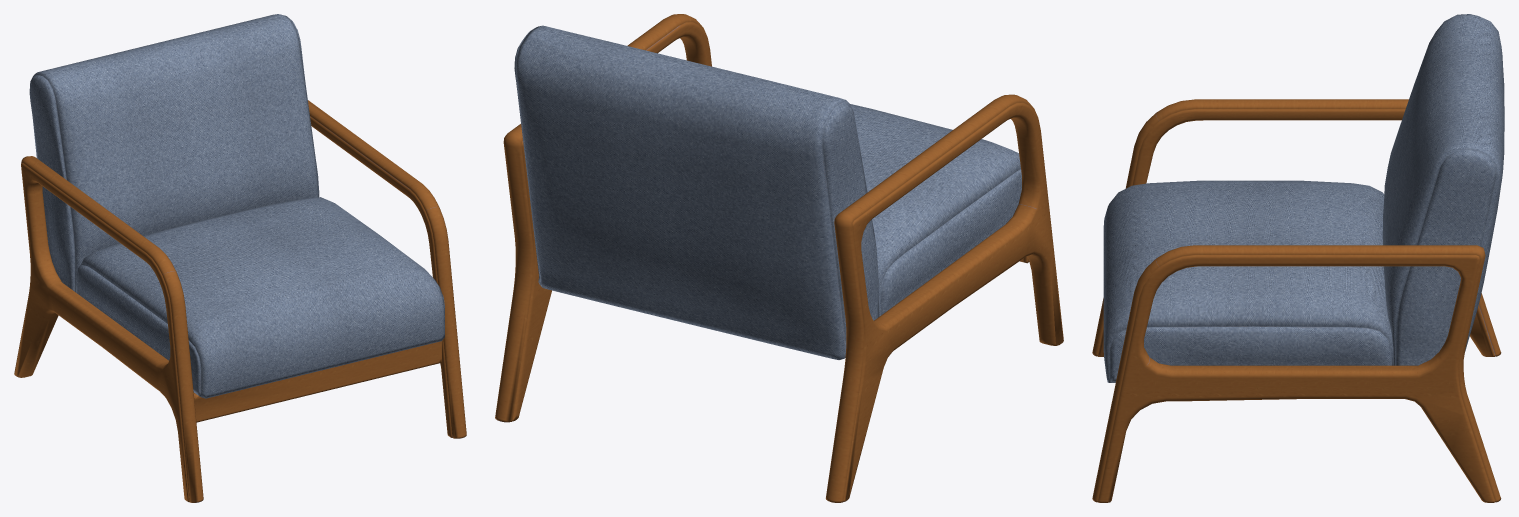
Rendered from arm_chair.glb.
3 renders of one model, left to right at view 1: azimuth 30°, elevation 25°; view 2: azimuth 150°, elevation 25°; view 3: azimuth 270°, elevation 25°, orthographic. The views are drawn at different scales.
Visible parts, largest first — view 1: chair_aiStandardSurface1_0; view 2: chair_aiStandardSurface1_0; view 3: chair_aiStandardSurface1_0.
Part boxes in pixels (bbox=[...]): chair_aiStandardSurface1_0: bbox=[14, 14, 466, 502]; chair_aiStandardSurface1_0: bbox=[495, 14, 1063, 502]; chair_aiStandardSurface1_0: bbox=[1092, 14, 1504, 502].
Bounding box in the file's own units: 0.0614 × 0.0641 × 0.0692.
1 material, 1 textured.
